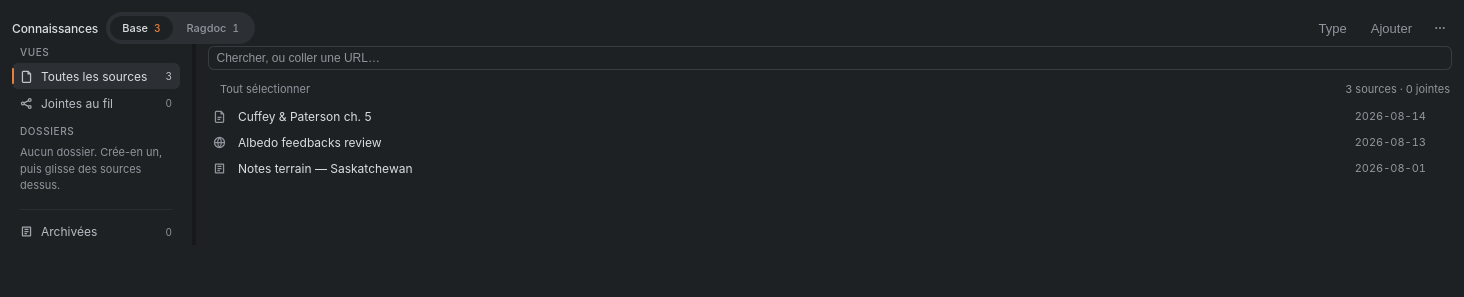
KbSurface › ⇧-clic prend la plage entre l'ancre et la rangée cliquée
Click the button with class "kb-pick" in the row of "2026-08-14".
click(219, 116)  # box [208,105,230,127]
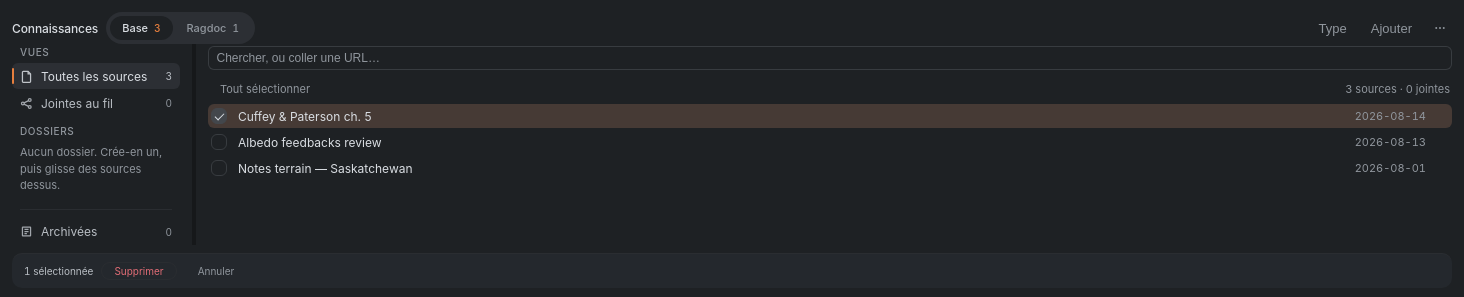
Click the button with class "kb-pick" in the row of "2026-08-01".
click(219, 168)  # box [208,157,230,179]
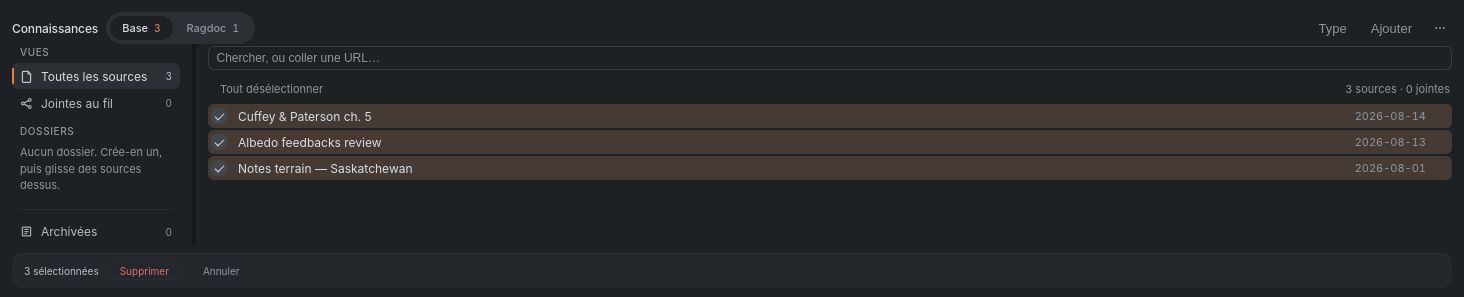
Expected: the text "3 sélectionnées" is shown, [24,264,99,276]
